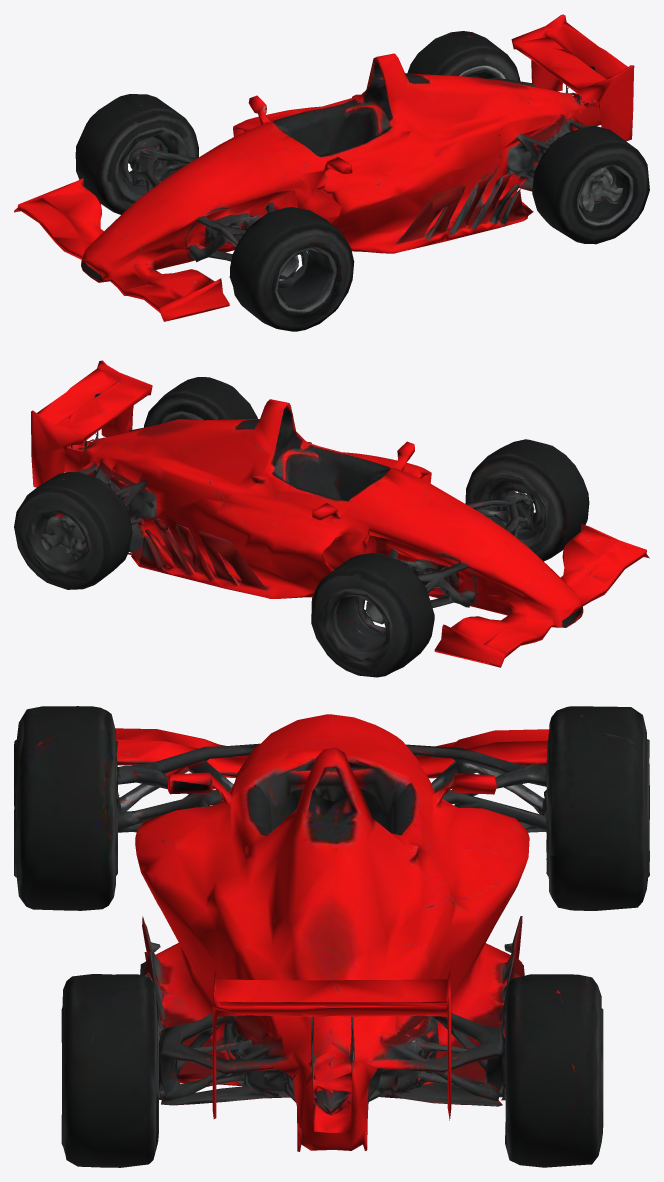
File: sr_nitro.glb
3 renders of one model, top to bottom at view 1: azimuth 30°, elevation 25°; view 2: azimuth 150°, elevation 25°; view 3: azimuth 270°, elevation 25°, orthographic. The views are drawn at different scales.
Bounding box in the file's own units: 1.9 × 0.6002 × 1.19.
1 material, 1 textured.
